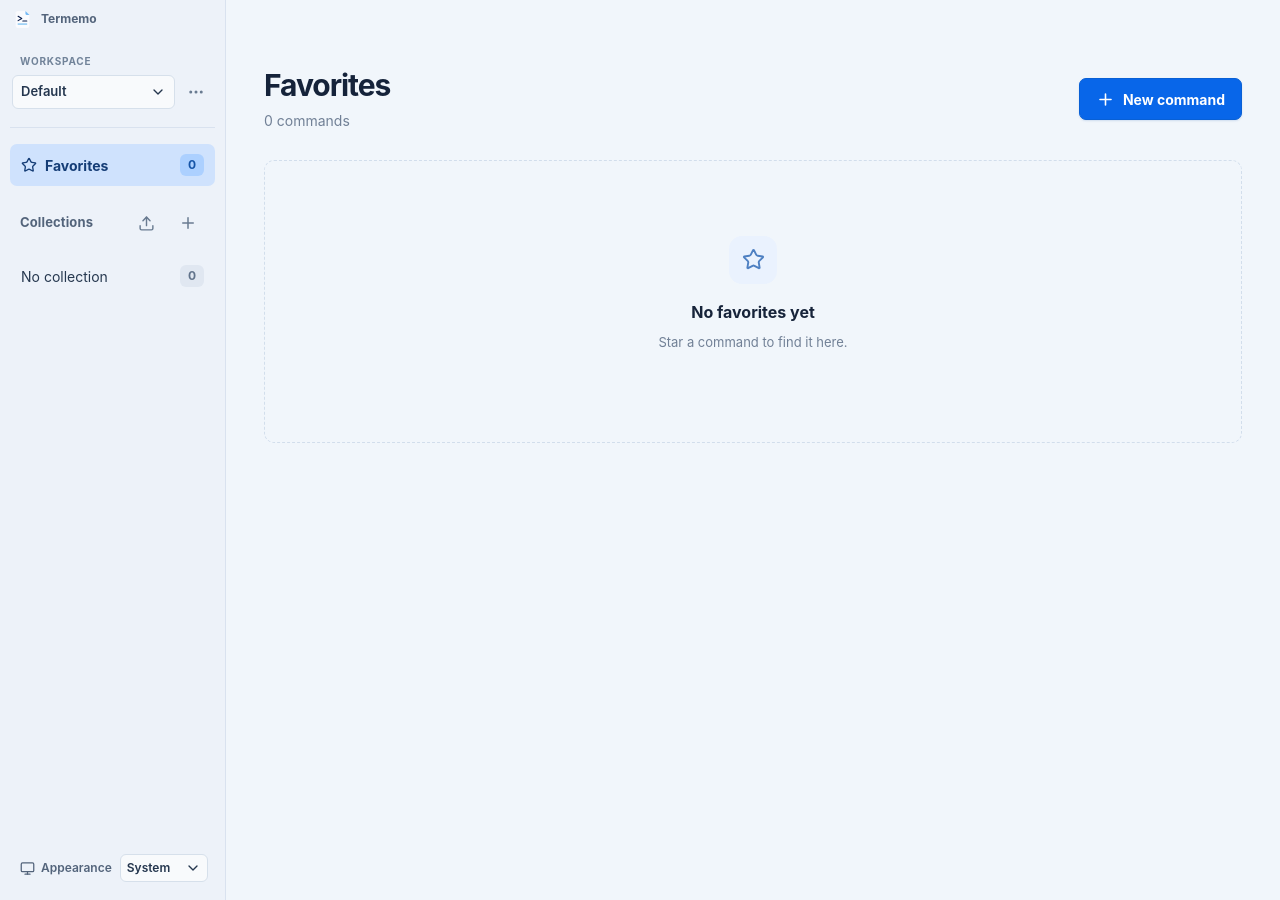
Test: a new command created from Favorites is starred
The width and height of the screenshot is (1280, 900).
Click the button "New command".
click(1160, 99)  # box 1079,78 -> 1242,120
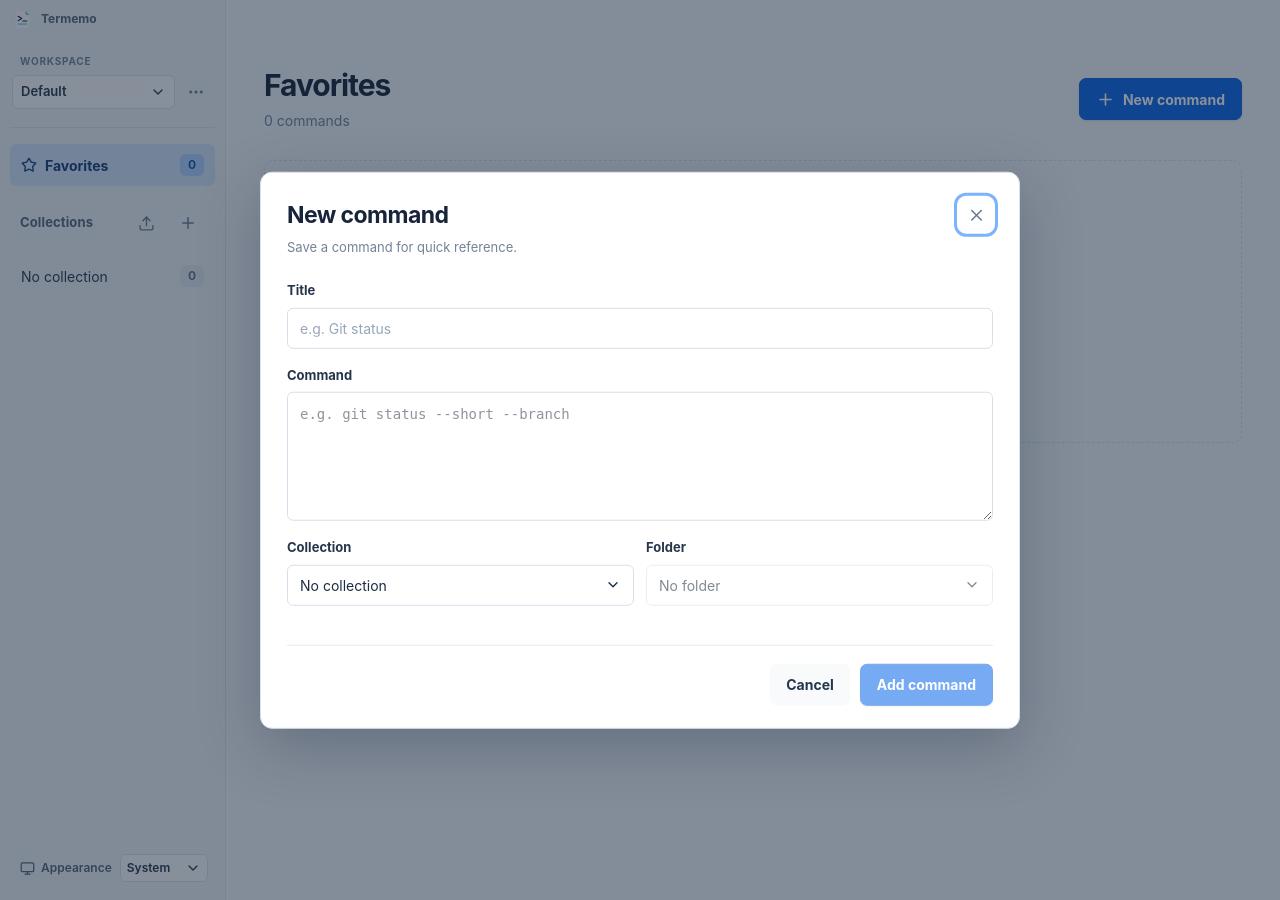
Type "Status" into the field labelled "Title".
click(640, 328); type("Status")  # box 287,307 -> 993,348
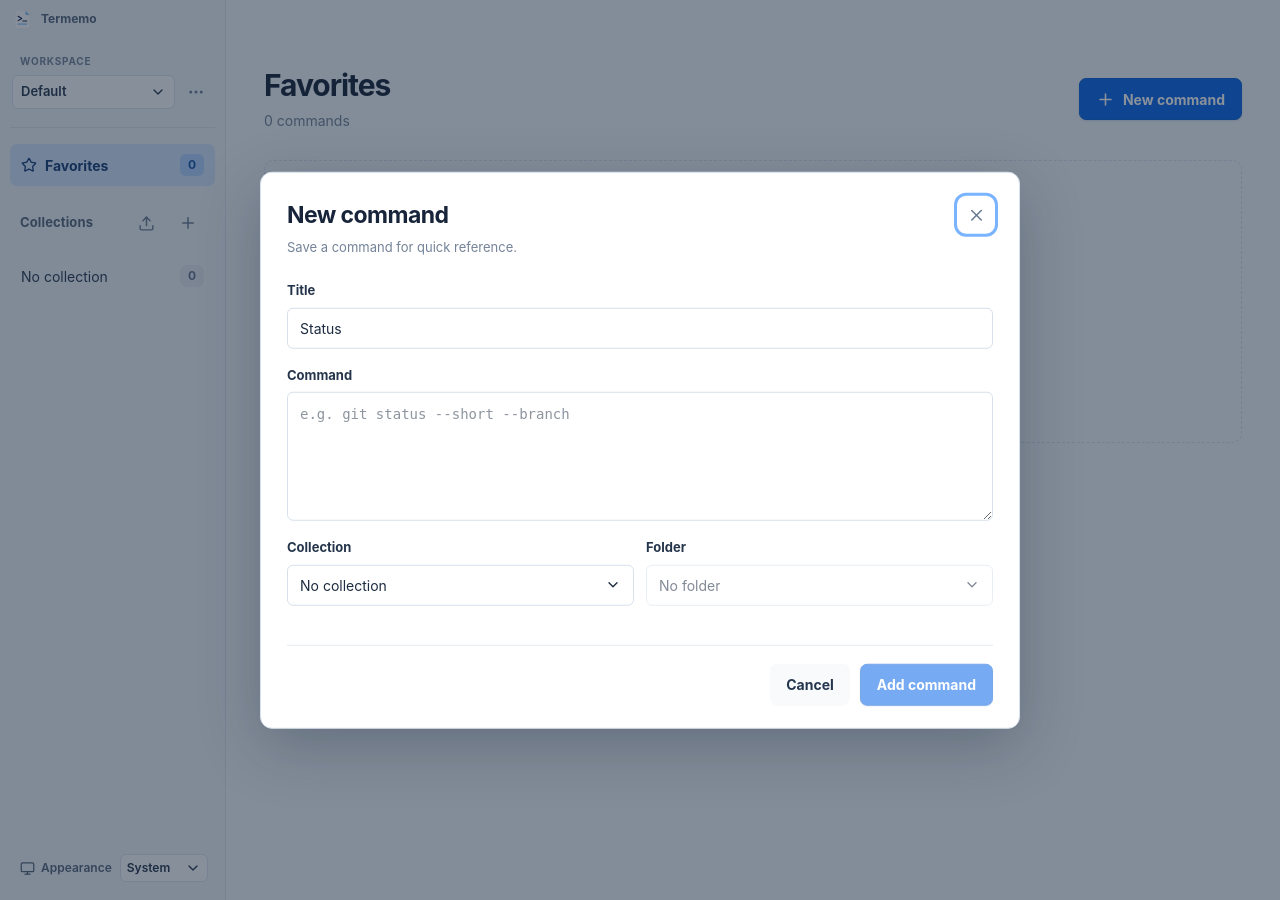
Type "git status" into the text box labelled "Command".
click(640, 456); type("git status")  # box 287,392 -> 993,521
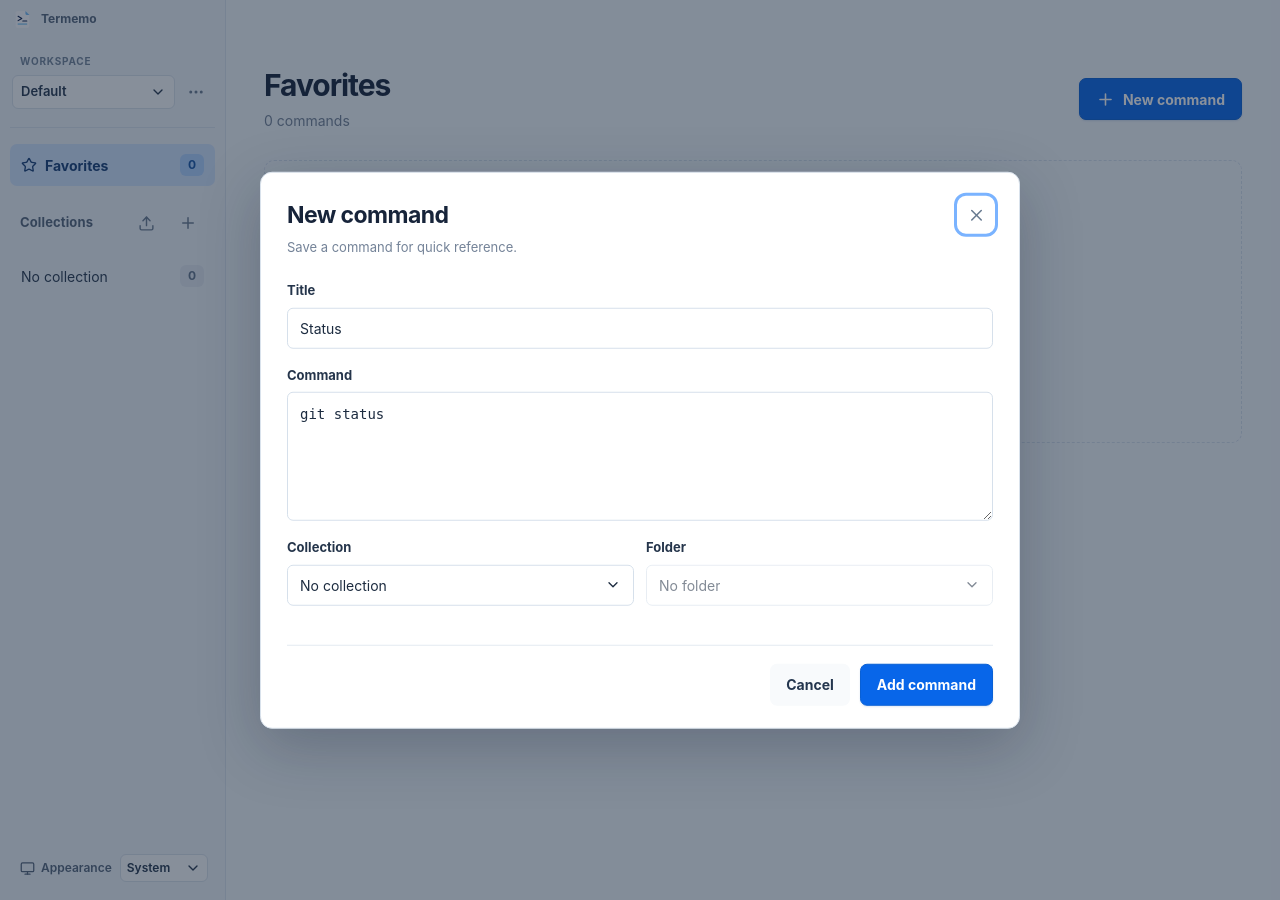
Click the button "Add command".
click(926, 684)  # box 860,663 -> 993,705
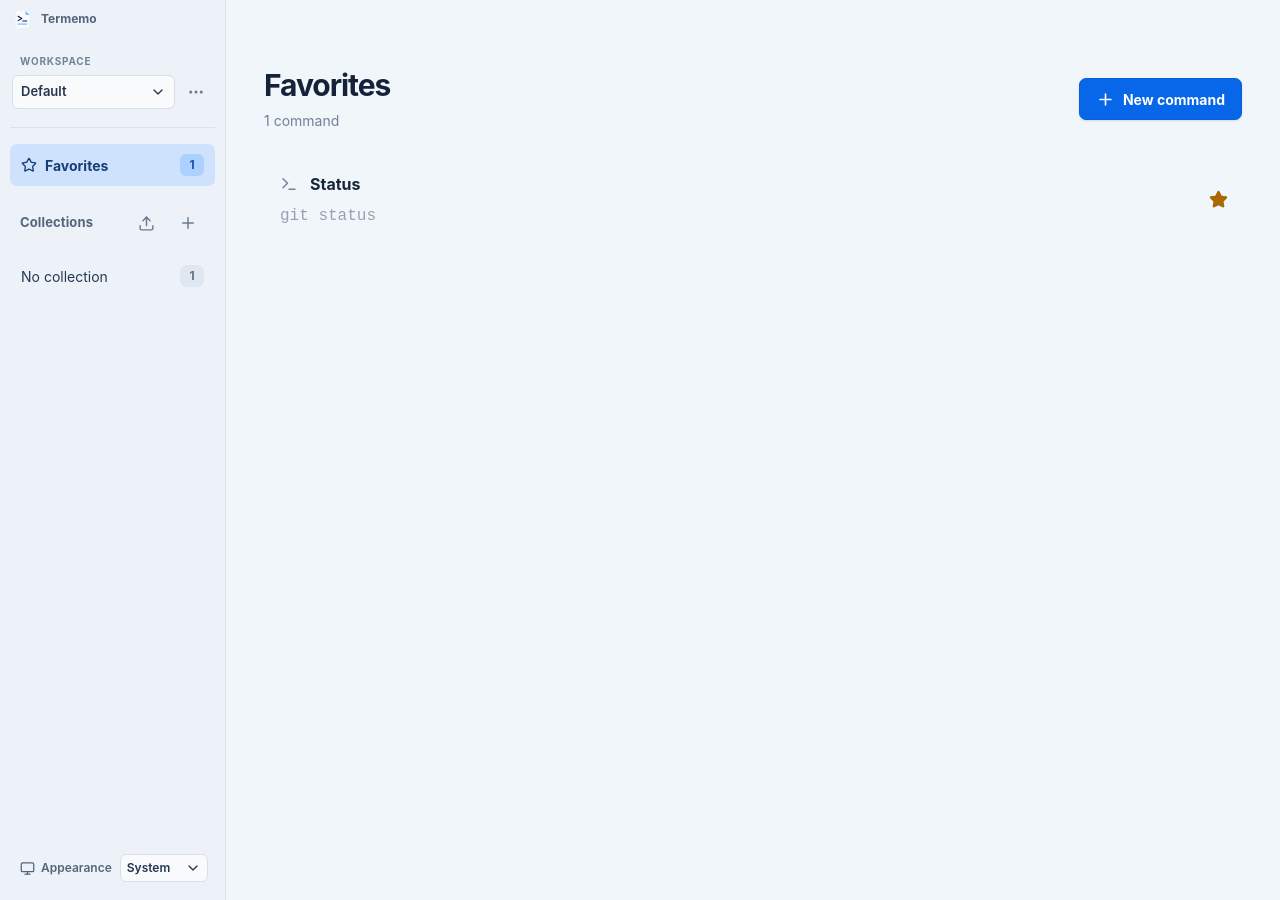
Check: the button named "Remove Status from favorites" is shown, box 1206,188 -> 1230,212
